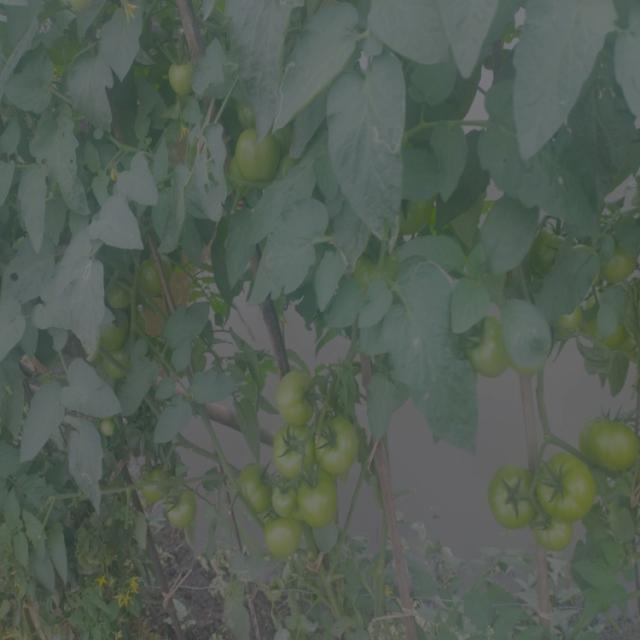tomato: (231, 132, 280, 186), (315, 419, 362, 473), (584, 419, 638, 465), (537, 466, 587, 515), (272, 368, 320, 417), (467, 317, 504, 380), (490, 465, 530, 522), (596, 313, 640, 357), (279, 423, 311, 478), (303, 483, 343, 526), (94, 315, 135, 354), (139, 251, 170, 301), (361, 252, 404, 287), (262, 519, 302, 555), (539, 222, 572, 265), (602, 249, 640, 285), (242, 466, 268, 516), (401, 202, 441, 234), (168, 60, 198, 94), (539, 519, 574, 544), (559, 305, 584, 339), (105, 280, 133, 310), (169, 495, 197, 522), (272, 484, 297, 514), (145, 461, 165, 498), (106, 355, 131, 377), (240, 105, 268, 122), (101, 422, 121, 439)
